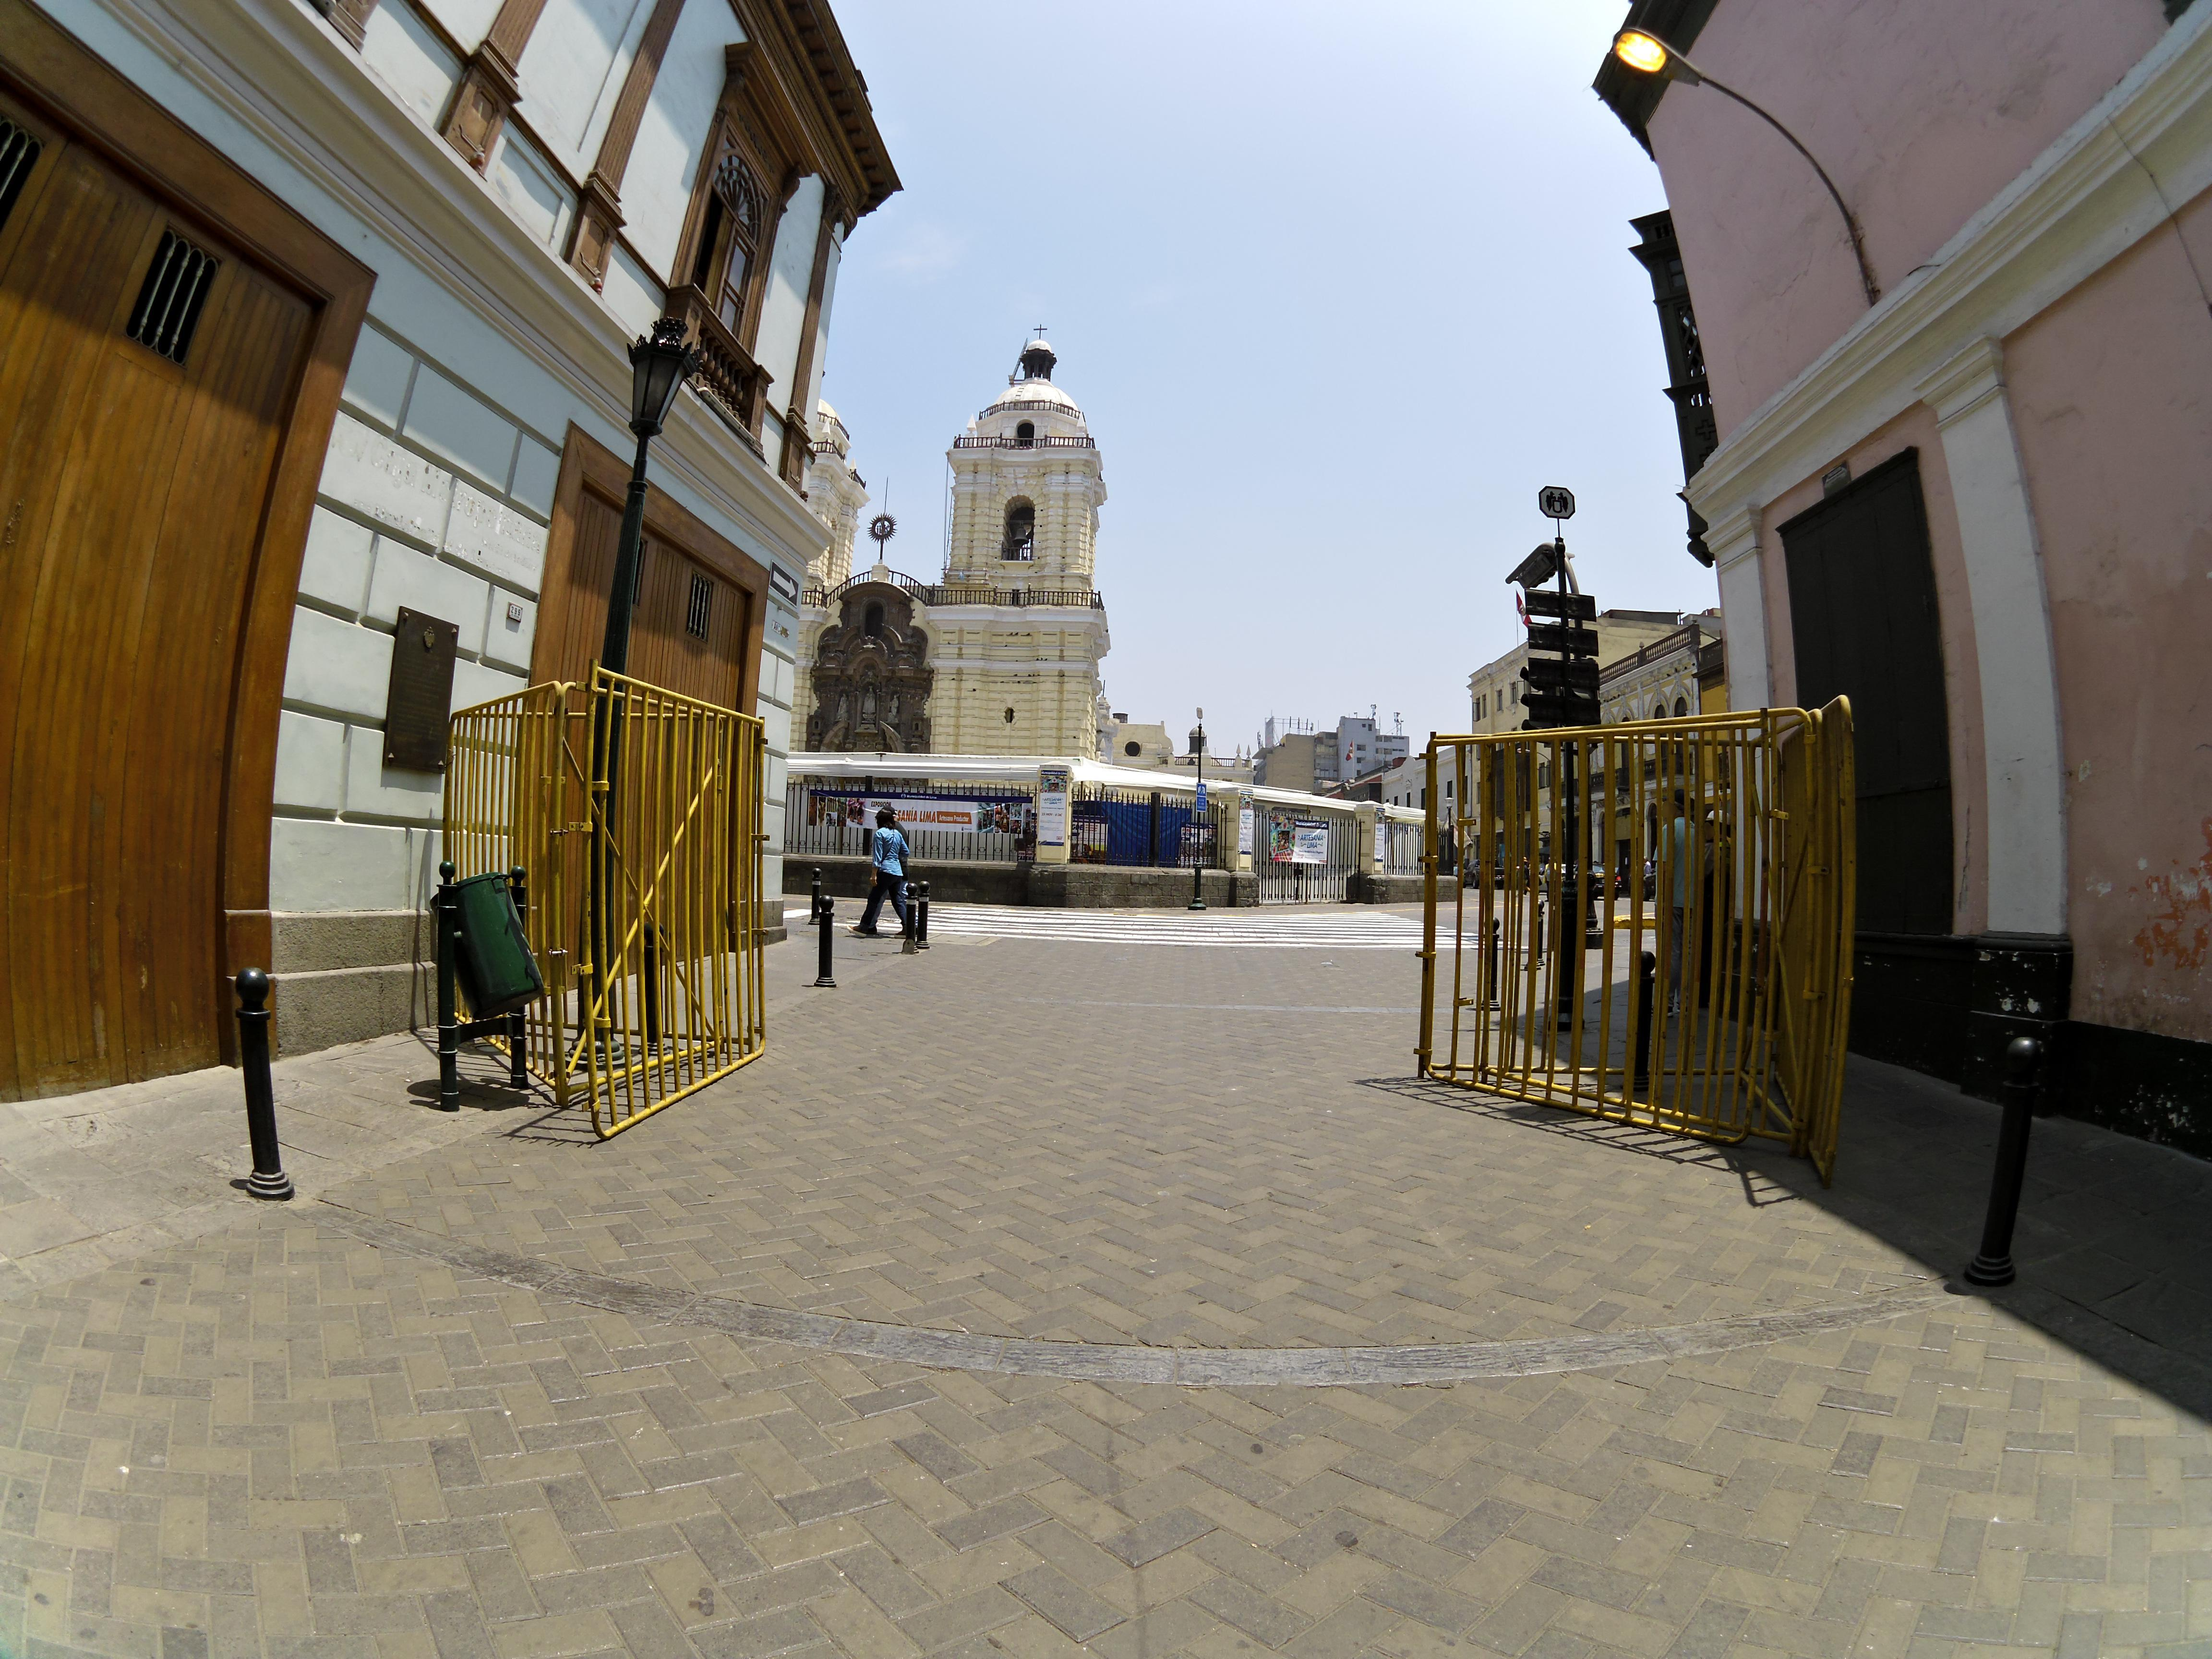vinyl banner: (794, 772, 995, 856), (1271, 807, 1359, 885)
